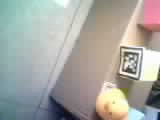duck: (96, 76, 141, 116)
